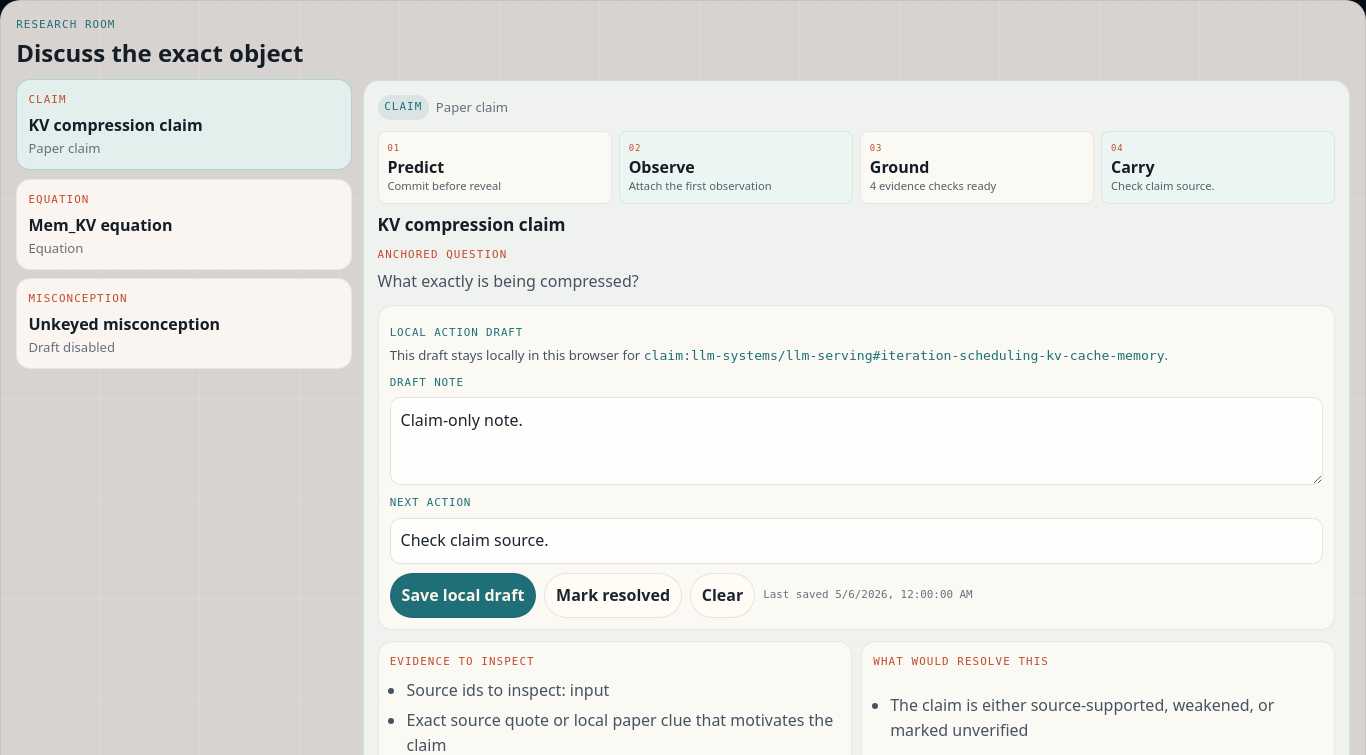
Test: ResearchReadingRoom › does not leak one object draft into another selected object prompt
Click the button "equation Mem_KV equation Equation". click: (59, 200)
box: 16,179 -> 352,270
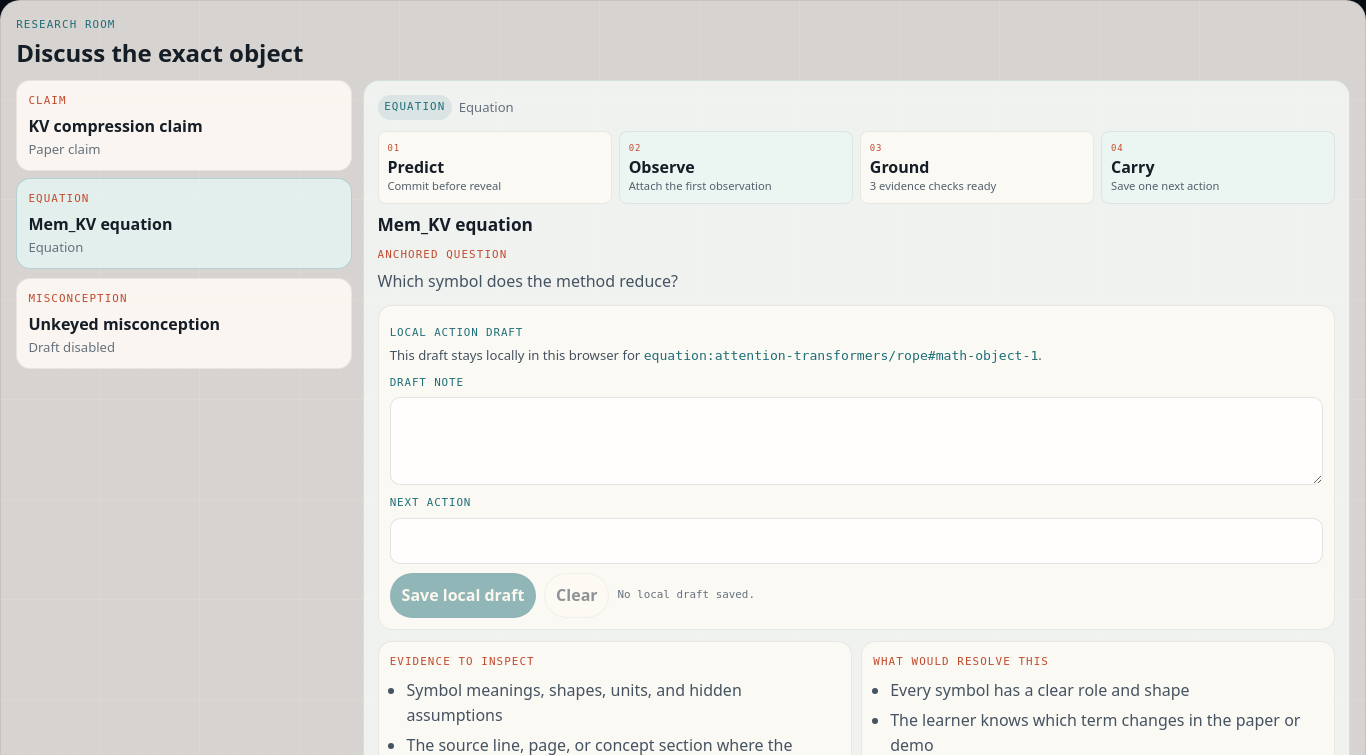
Expected: the text "Claim-only note." is not shown
Result: the message reads "No local draft saved." at 618,588 -> 755,601
